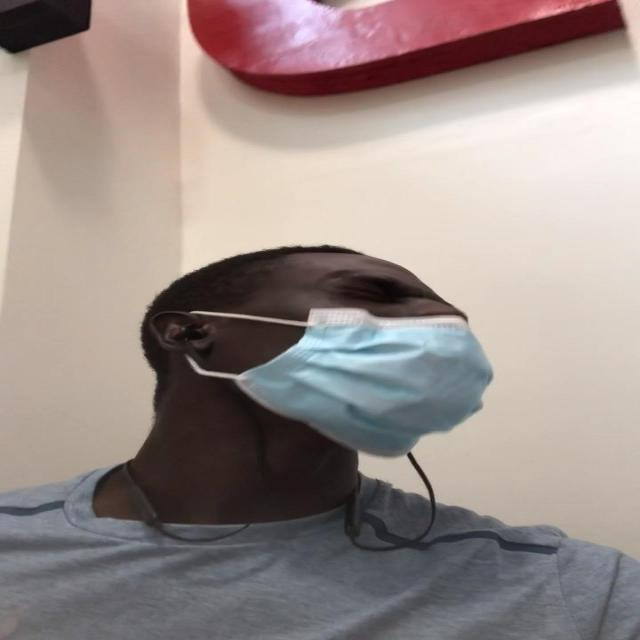face: (193, 257, 494, 457)
